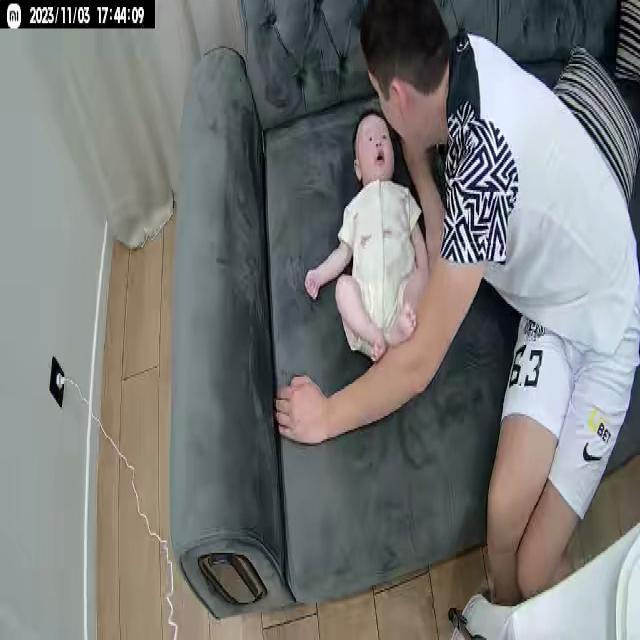baby: (302, 110, 430, 374)
